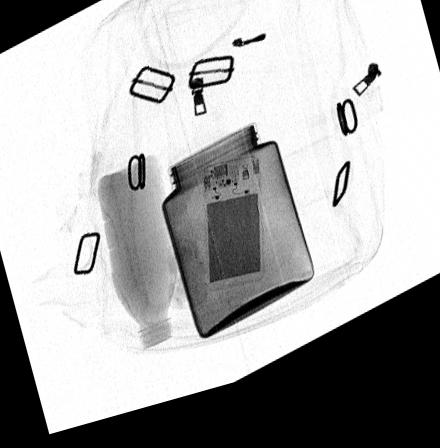Powerbank: (201, 168, 265, 303)
